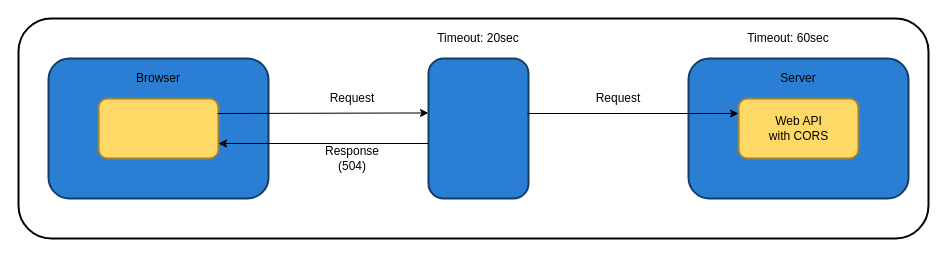
This 946x256 diagram has some shape labels left out. Each missing label, with the centre of its shape:
"API Manager" goes at (478,128).
"Website" goes at (158,128).
